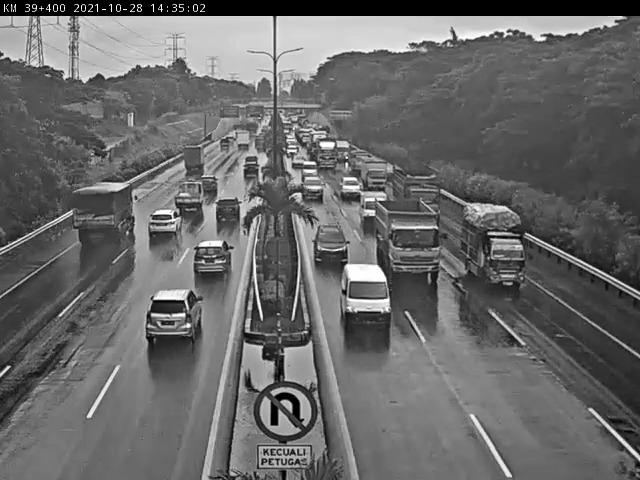big truck: (61, 169, 143, 261), (377, 200, 438, 277), (392, 170, 443, 204)
car: (119, 287, 207, 374), (181, 234, 241, 294), (341, 265, 395, 331), (138, 204, 181, 250), (213, 193, 246, 238), (317, 223, 352, 265), (351, 188, 388, 223), (191, 178, 218, 209), (299, 172, 325, 202), (236, 165, 262, 190), (337, 177, 357, 199)
small truck: (459, 202, 528, 286), (159, 187, 199, 230), (175, 145, 212, 183), (359, 161, 385, 190)
